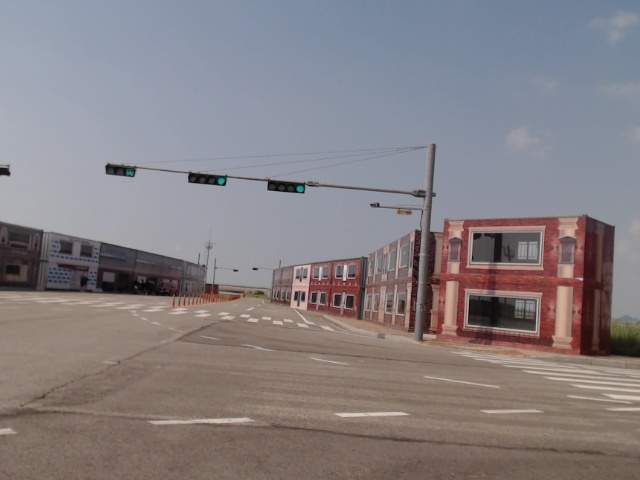straight_green_4: (187, 172, 226, 186), (267, 180, 307, 193)
